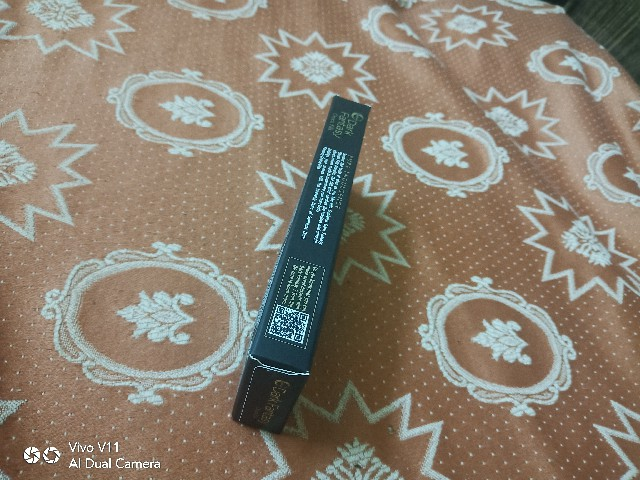darkfantasy small: (215, 88, 381, 440)
